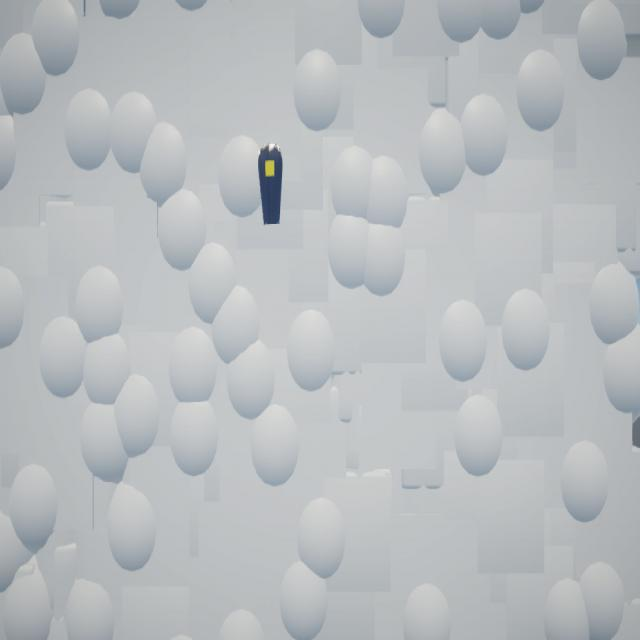handle_folk: (259, 144, 284, 226)
